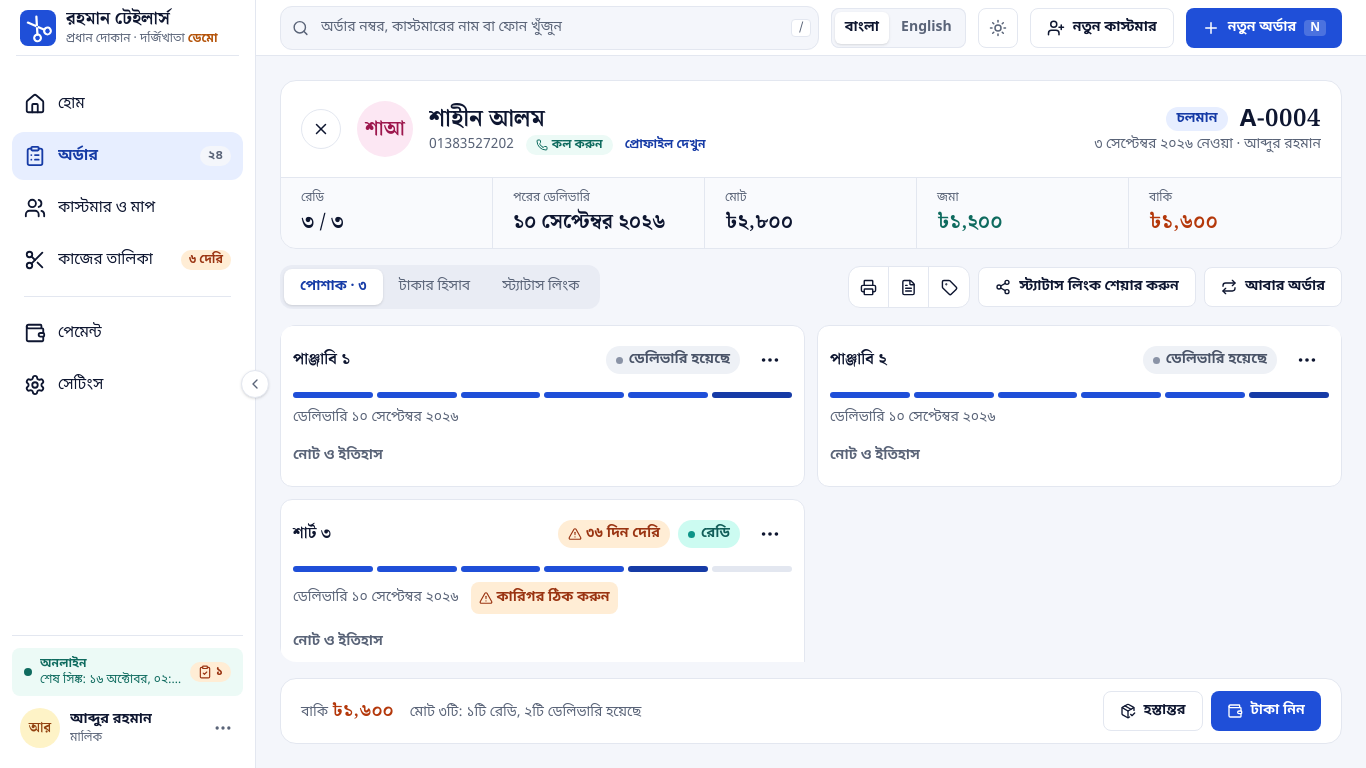
Test: Desktop order page › takes payment from the bar along the bottom
Click the button "টাকা নিন": click(1266, 711) [1210,691,1321,731]
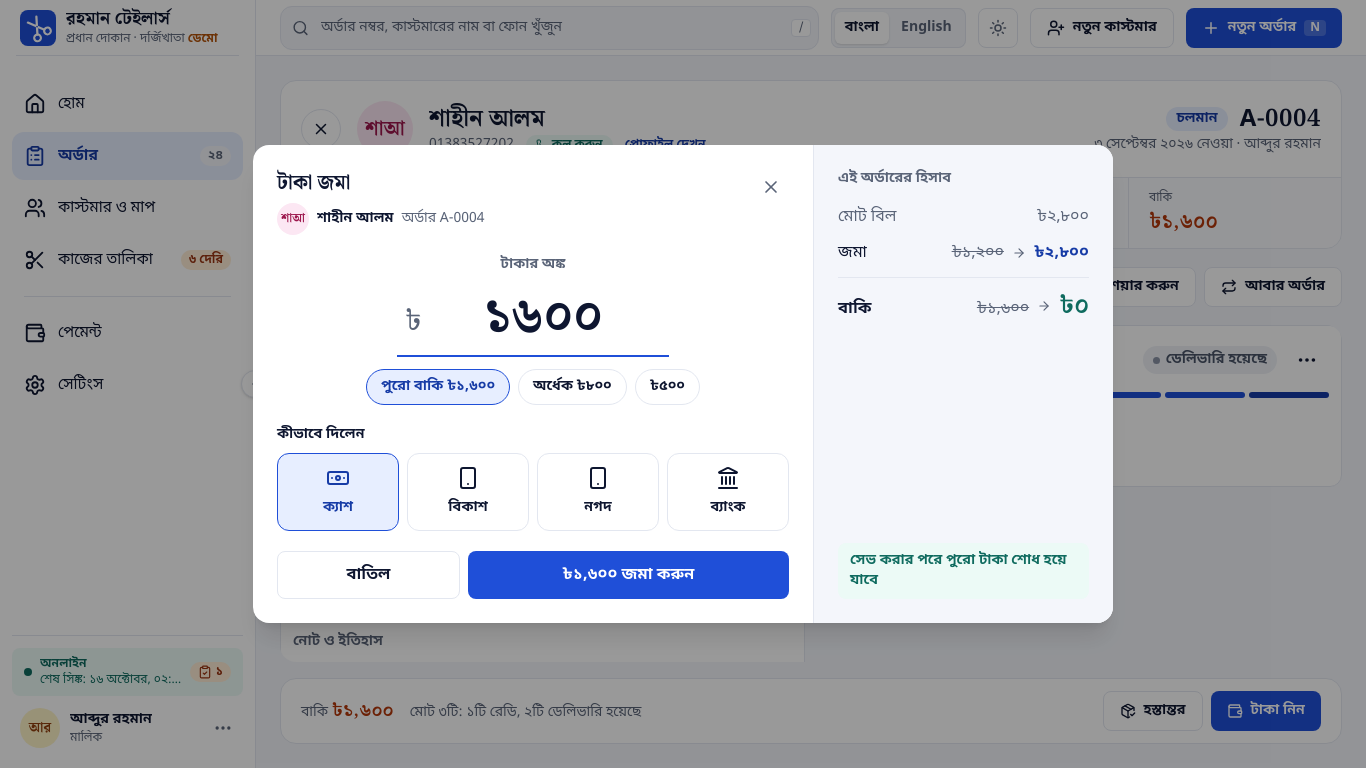
Now the dialog "টাকা জমা" is shown, box [253,145,1113,623]
